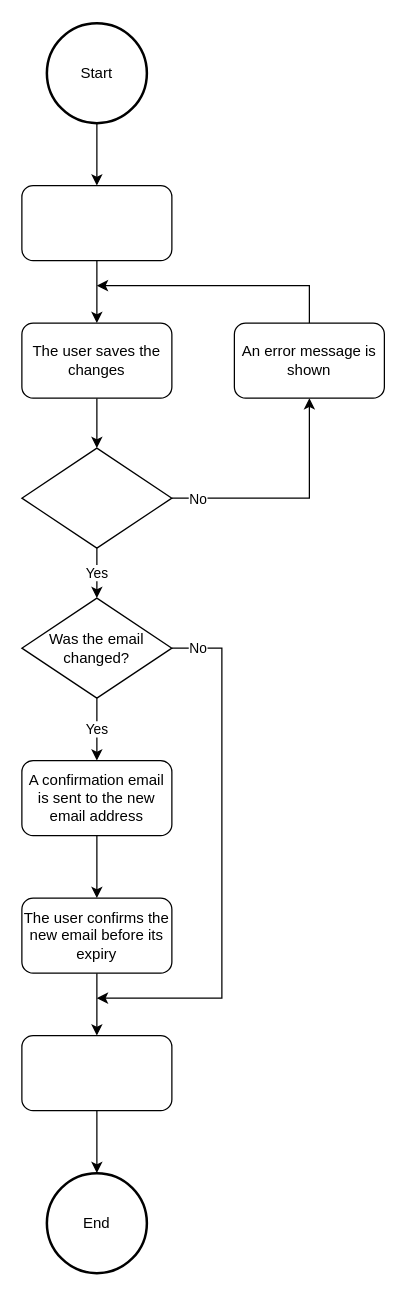
The diagram is 406 pixels wide and 1295 high, and some of its shapes have lost their labels. Each missing label, with the box of its shape:
Are the changes acceptable?: (21, 447, 172, 548)
The user views his profile information: (21, 184, 172, 261)
User data is updated in the database: (21, 1034, 172, 1111)
